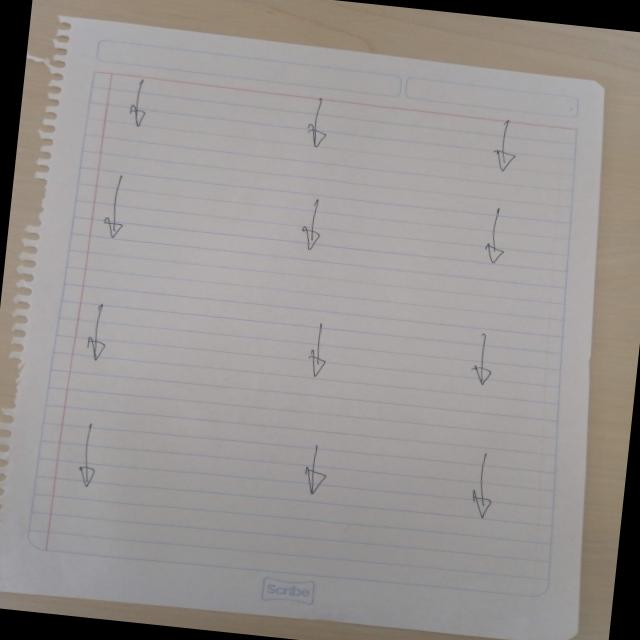arrow_line_down: (68, 421, 113, 494), (460, 448, 504, 522), (478, 200, 520, 268), (77, 300, 118, 366), (292, 322, 336, 382), (464, 325, 506, 387), (484, 118, 525, 178), (297, 194, 337, 254), (96, 172, 132, 238), (296, 440, 336, 498), (126, 70, 158, 134), (300, 96, 330, 150)
